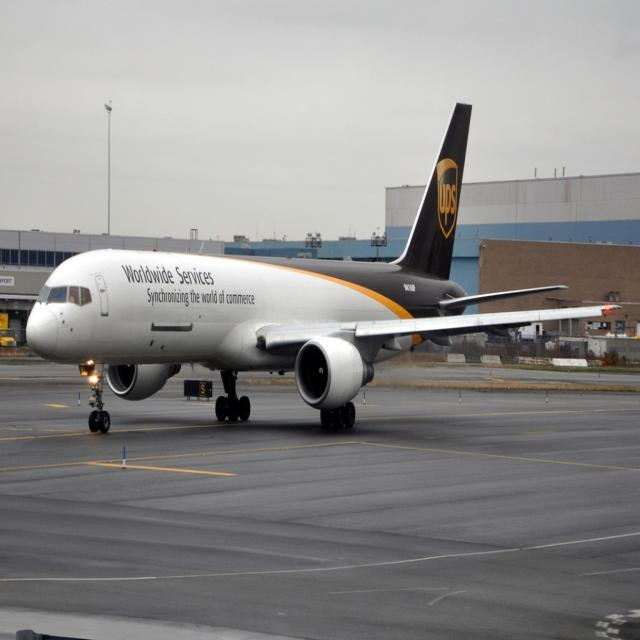ups: (437, 157, 459, 240)
